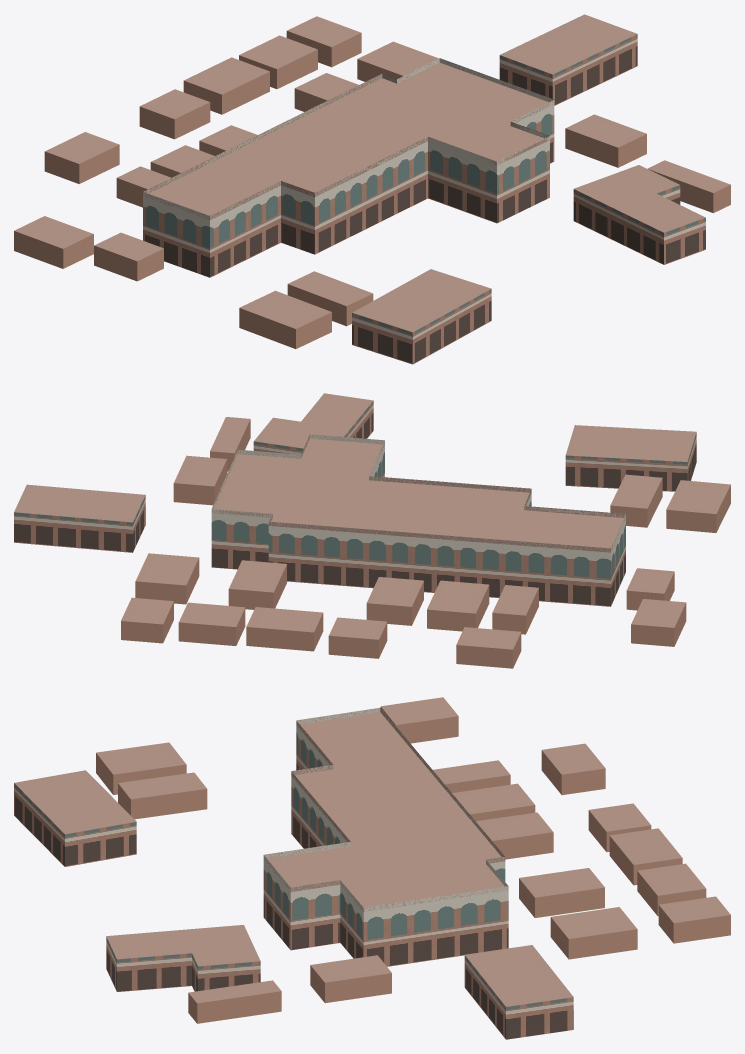
The model's file is gare_bamako.glb.
3 views of the same model, one above another, from view 1: azimuth 30°, elevation 25°; view 2: azimuth 150°, elevation 25°; view 3: azimuth 270°, elevation 25° (orthographic). The views are drawn at different scales.
Parts seen in each view (by area): view 1: Gare_Bamako; view 2: Gare_Bamako; view 3: Gare_Bamako.
Part boxes in pixels (bbox=[...]): Gare_Bamako: bbox=[14, 14, 730, 364]; Gare_Bamako: bbox=[14, 393, 730, 668]; Gare_Bamako: bbox=[14, 697, 730, 1039].
Size of the model in its own units: 0.35 by 0.035 by 0.3267.
1 material, 1 textured.
